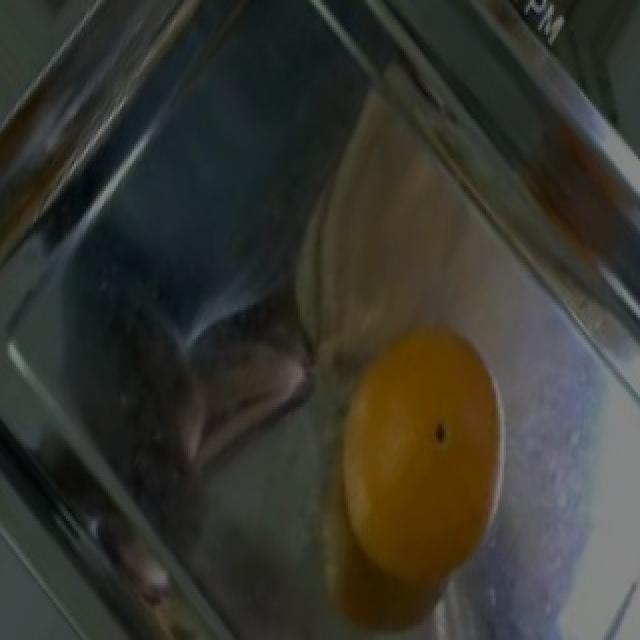Fruit: (304, 303, 532, 630)
